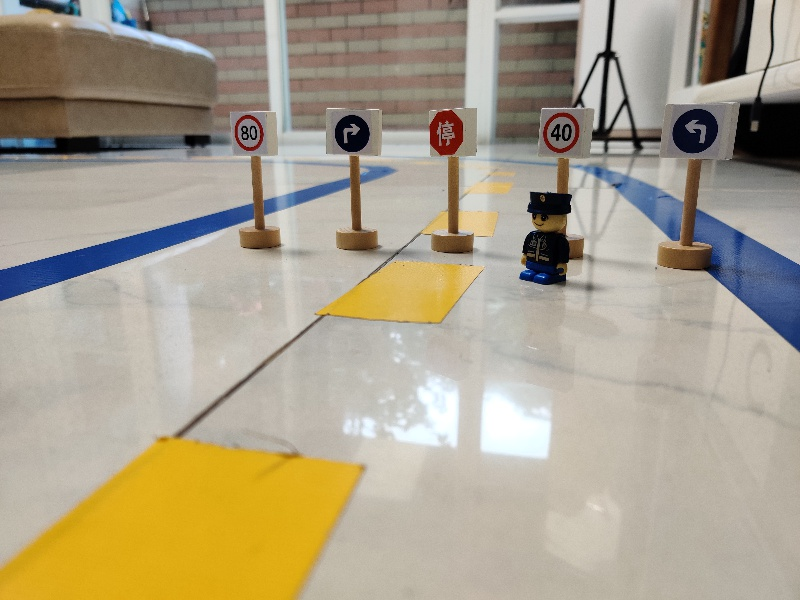limit_40: (534, 106, 595, 161)
limit_80: (224, 110, 281, 159)
person: (513, 187, 574, 292)
stop: (423, 107, 481, 159)
turn_left: (660, 99, 739, 161)
turn_right: (323, 107, 384, 157)
